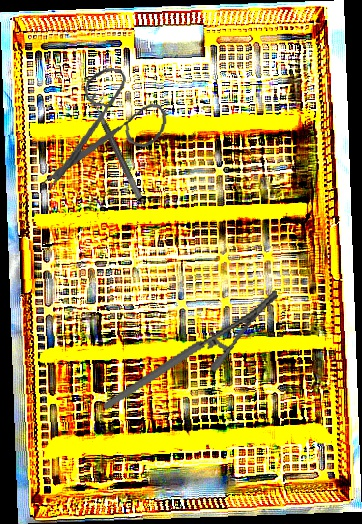Fixation Ring: (87, 88, 152, 201)
Iris Scissors: (39, 61, 173, 205)
Needle Holder: (86, 288, 295, 411)
